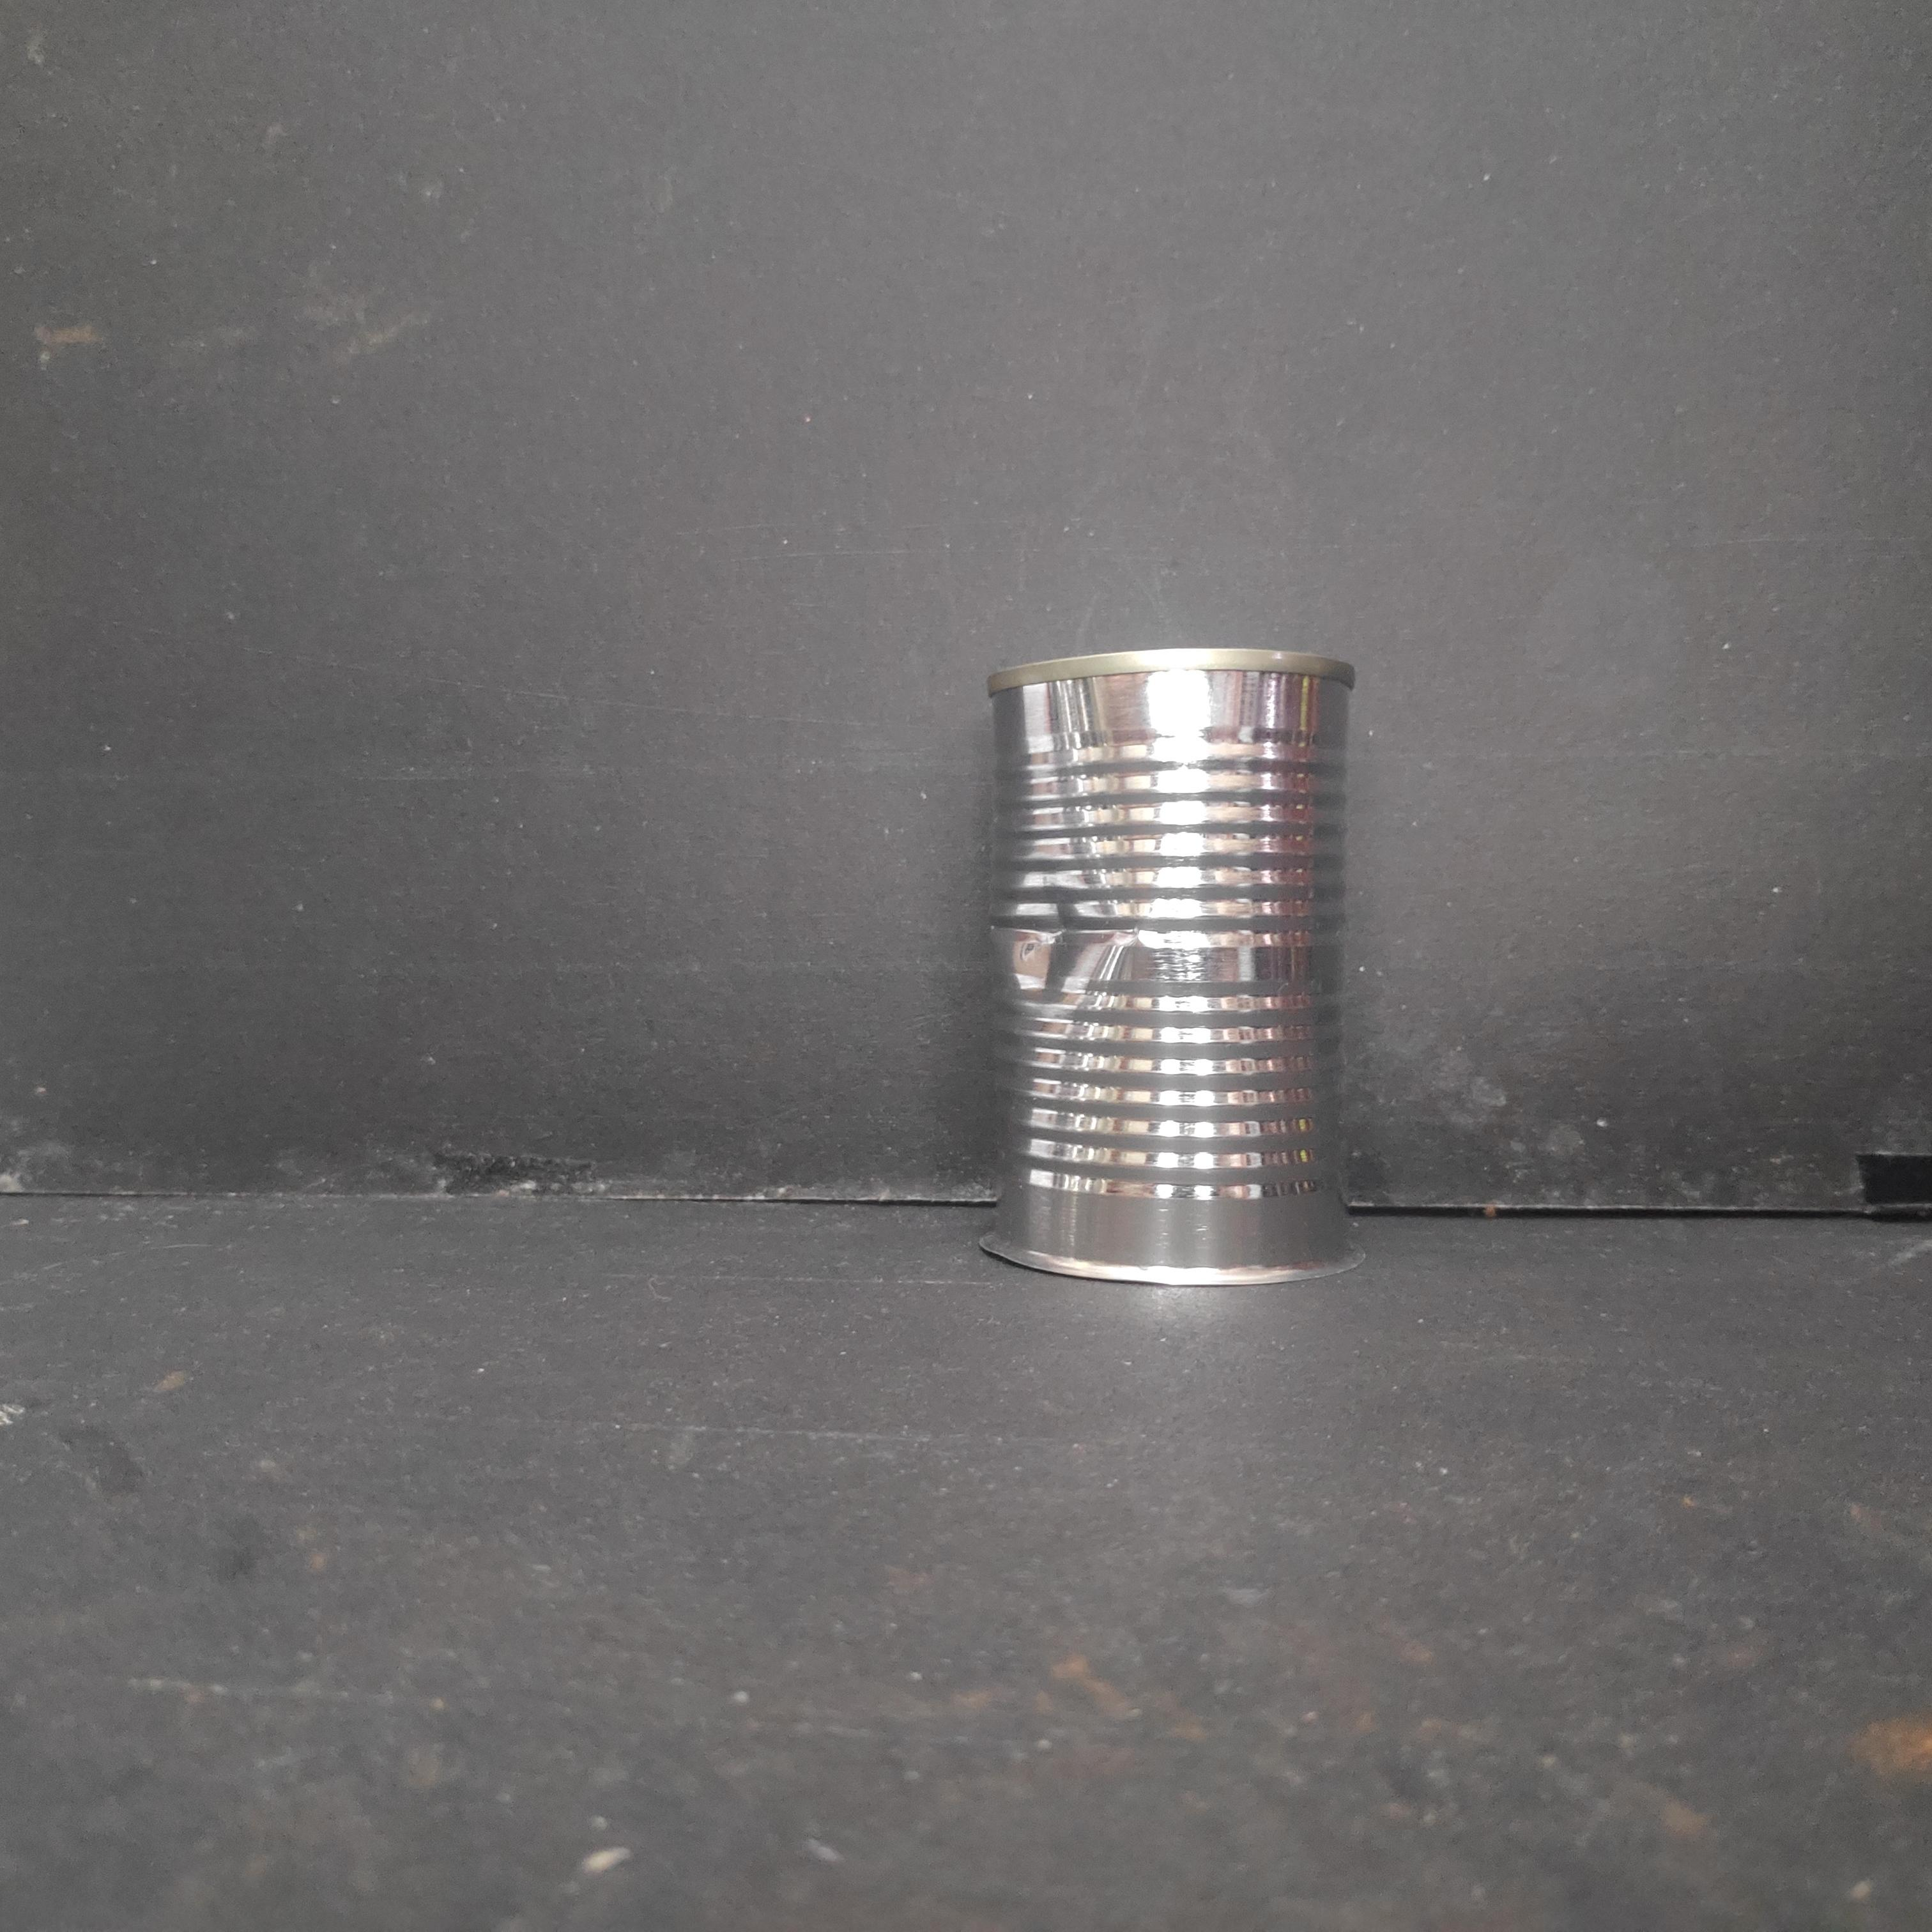Minor Defect: (975, 642, 1369, 1300)
